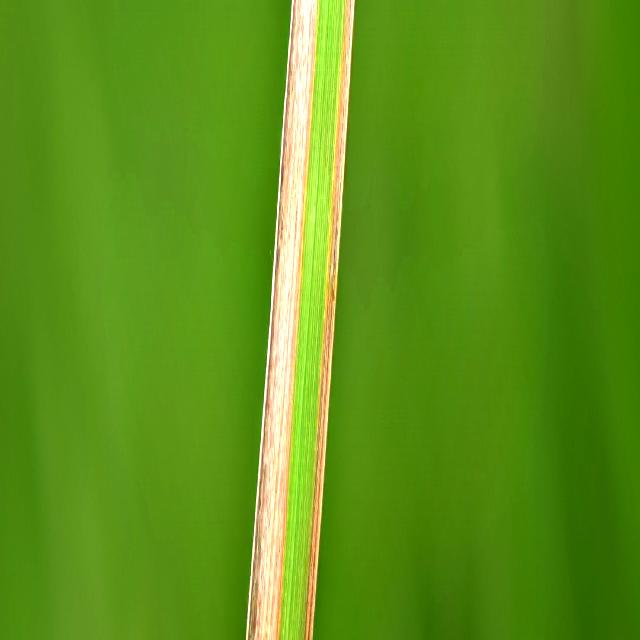BLB: (246, 0, 317, 640), (304, 0, 355, 640)
